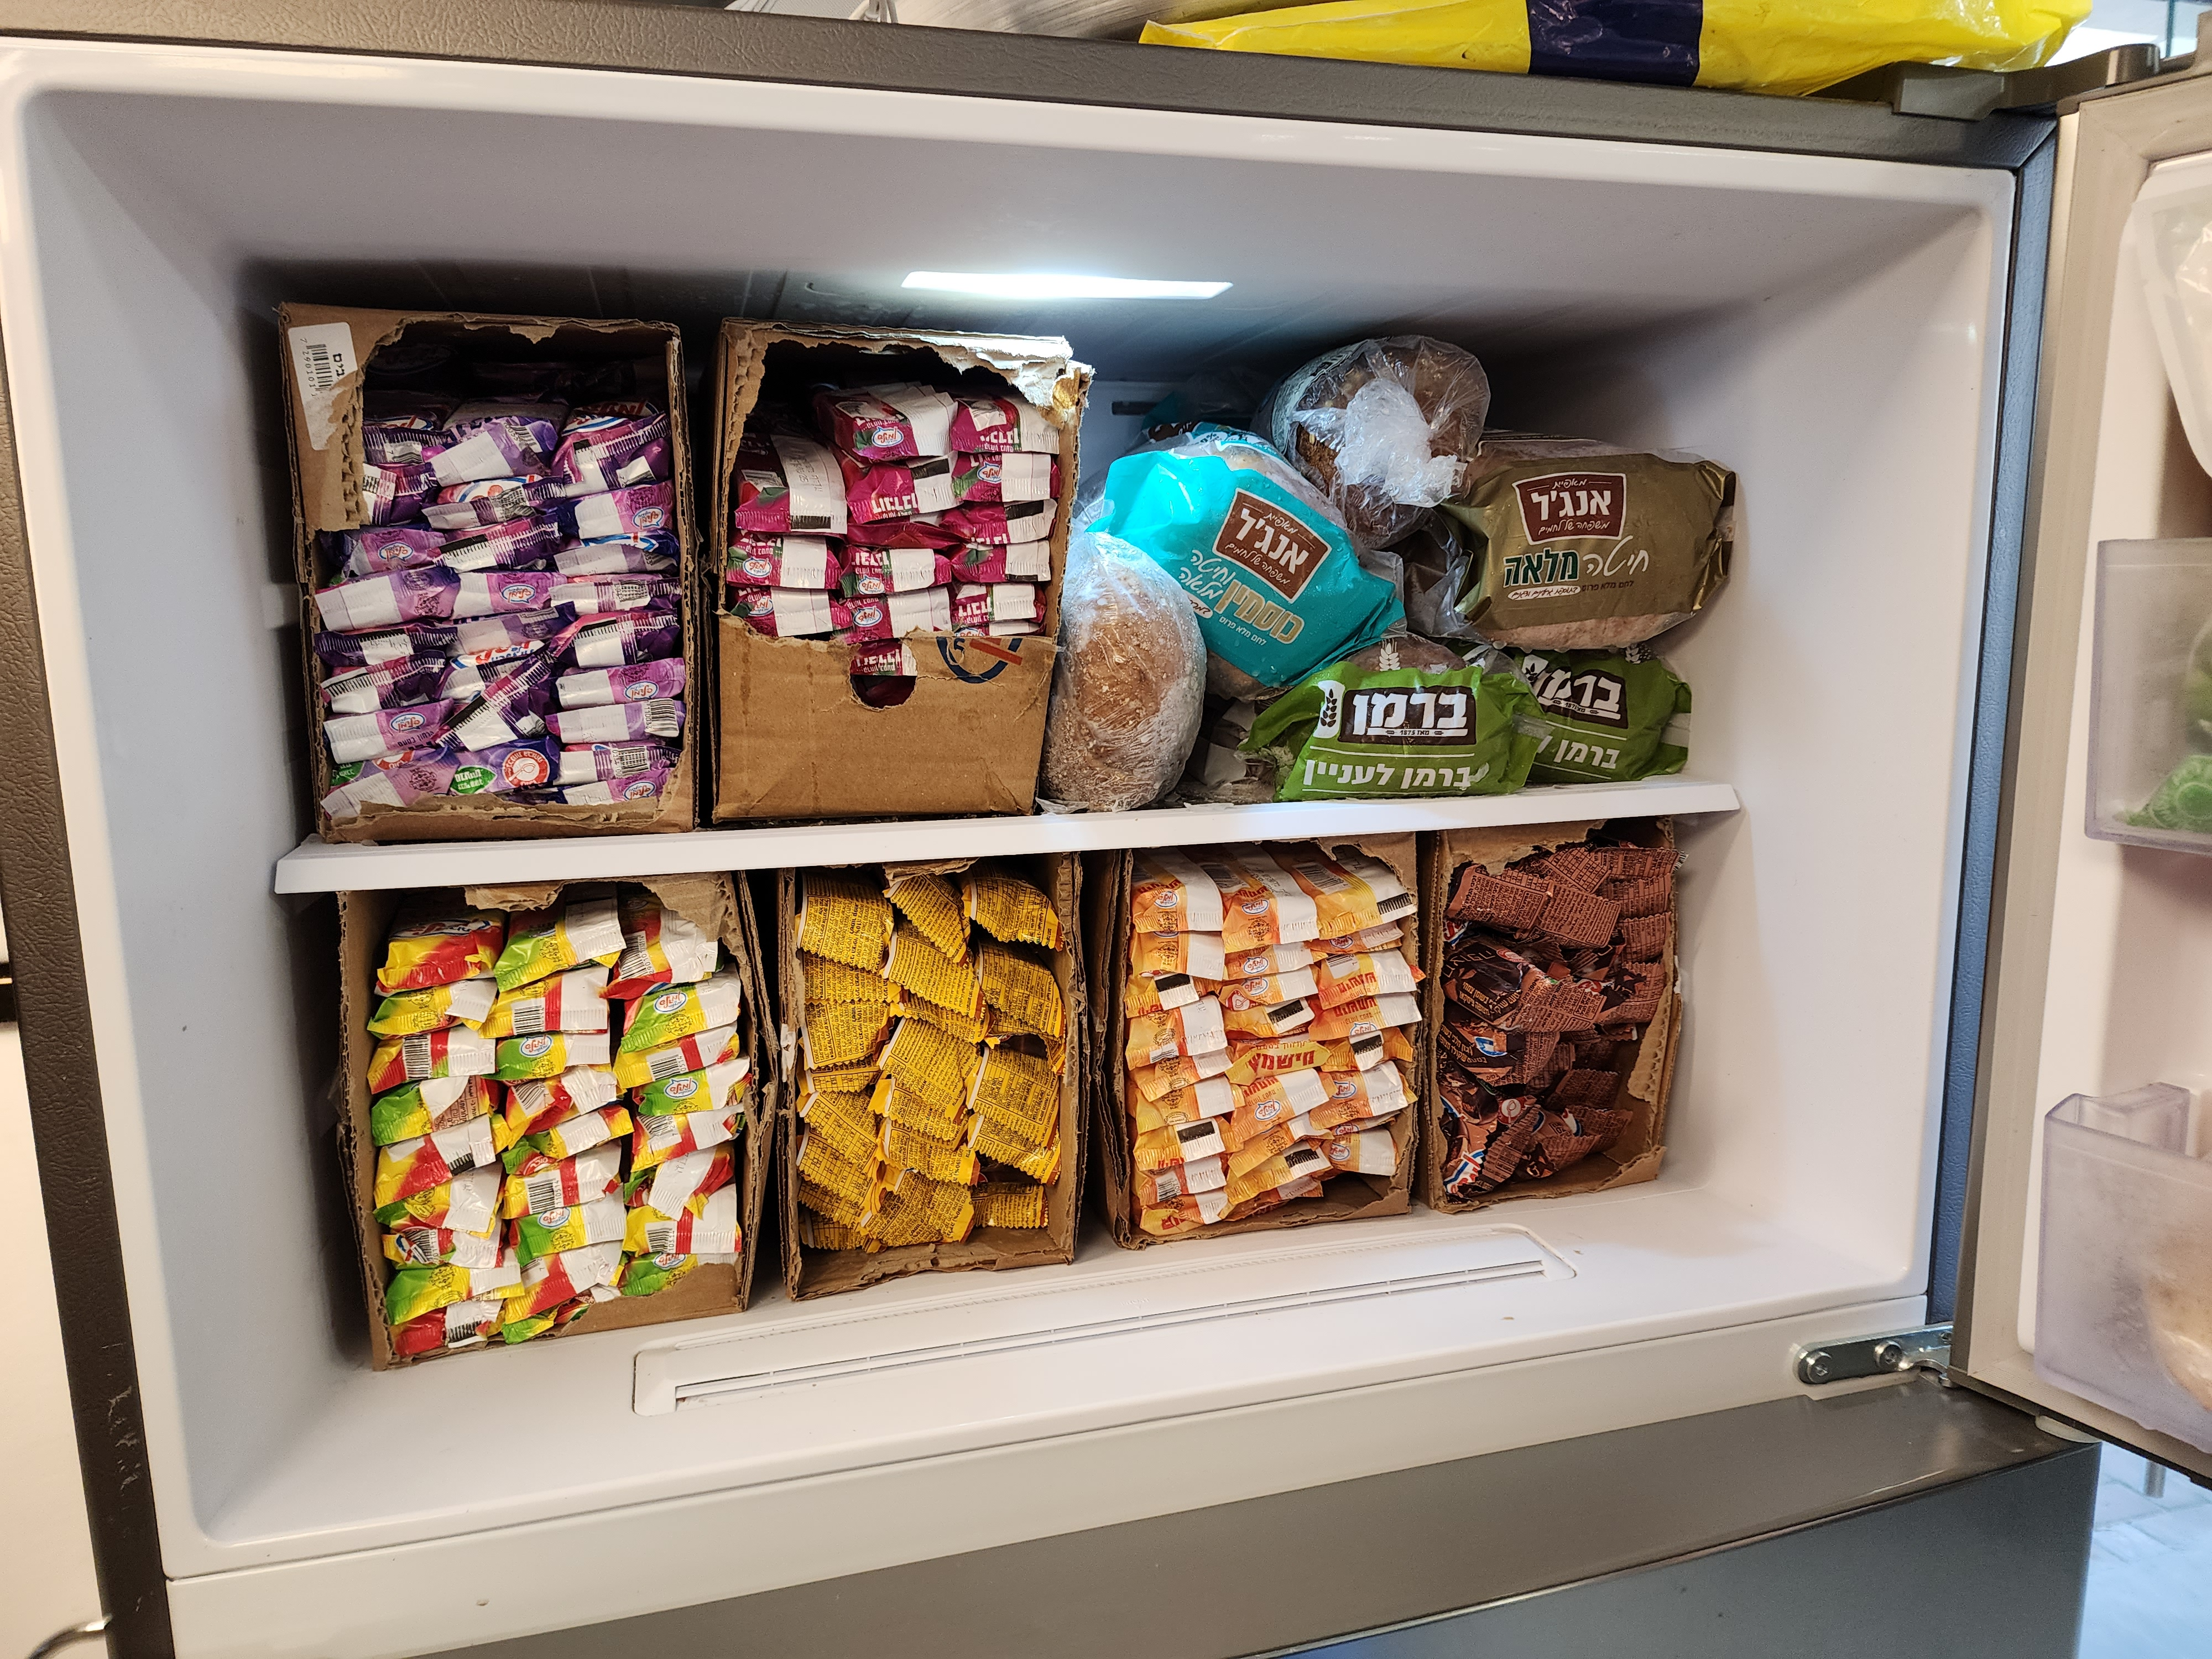box: (273, 303, 704, 830), (716, 300, 1103, 843), (320, 894, 773, 1338), (765, 875, 1090, 1286), (1104, 854, 1416, 1236), (1437, 826, 1689, 1192)
polythene bag: (1104, 415, 1414, 692), (1449, 434, 1756, 667), (1224, 640, 1557, 819), (1055, 528, 1205, 814), (1268, 329, 1496, 514), (1489, 627, 1716, 779)
